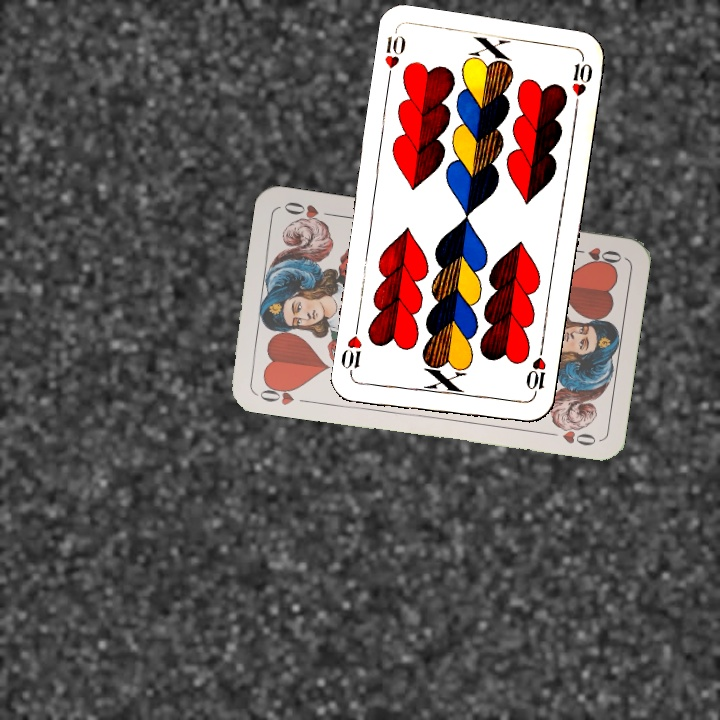H10: (381, 28, 409, 87), (522, 342, 549, 401)
HO: (252, 378, 302, 408), (566, 243, 625, 267)
